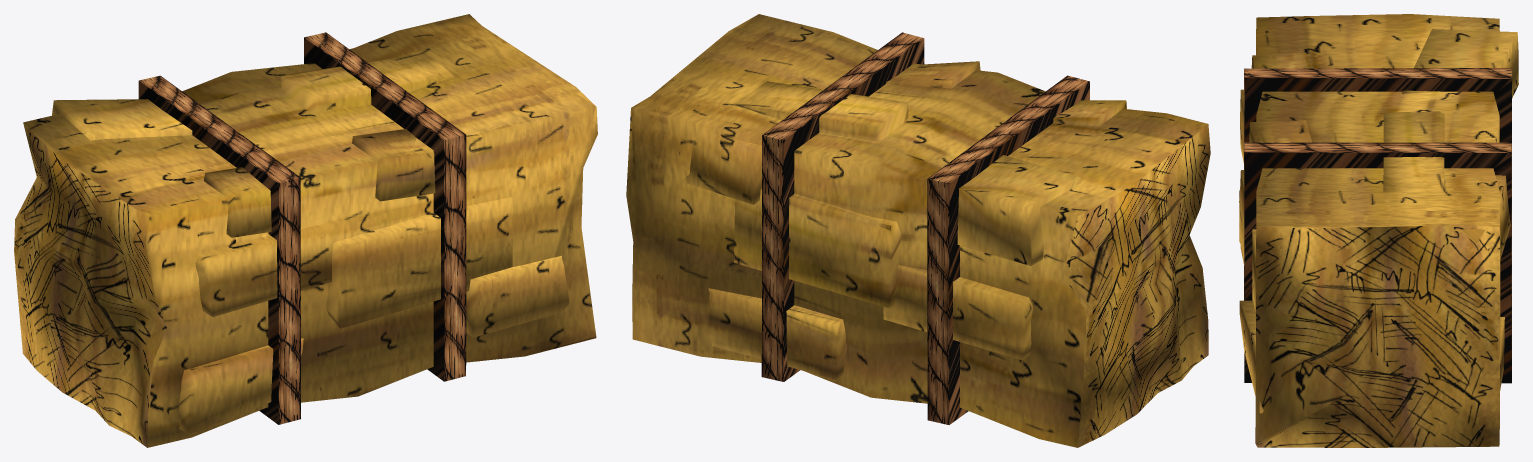
File: Haybale.glb
3 renders of one model, left to right at view 1: azimuth 30°, elevation 25°; view 2: azimuth 150°, elevation 25°; view 3: azimuth 270°, elevation 25°, orthographic. The views are drawn at different scales.
Parts seen in each view (by area): view 1: Haybale; view 2: Haybale; view 3: Haybale.
Boxes of the visible parts, bbox=[...] form: Haybale: bbox=[14, 14, 597, 447]; Haybale: bbox=[626, 14, 1210, 447]; Haybale: bbox=[1239, 14, 1518, 447].
Bounding box in the file's own units: 1.28 × 0.6369 × 0.6822.
Materials: 1 (1 with a texture image).
